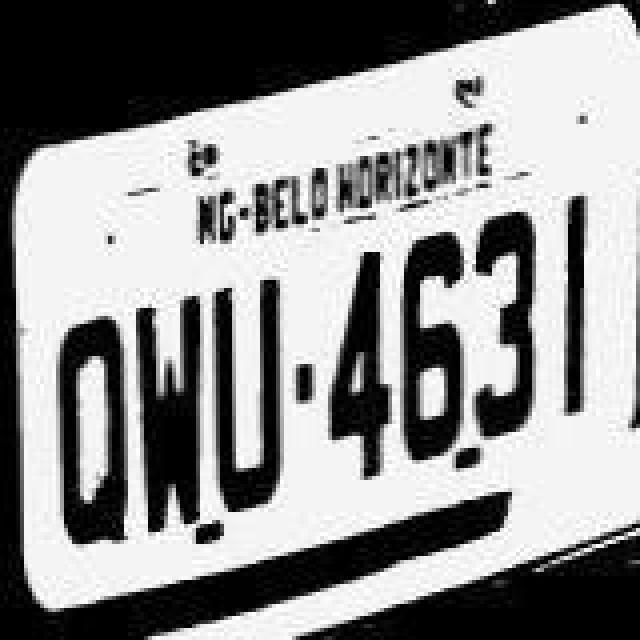1: (550, 178, 610, 446)
3: (468, 196, 548, 460)
4: (326, 236, 402, 516)
6: (390, 222, 474, 490)
Q: (48, 298, 140, 566)
U: (210, 262, 294, 538)
W: (134, 276, 210, 548)
